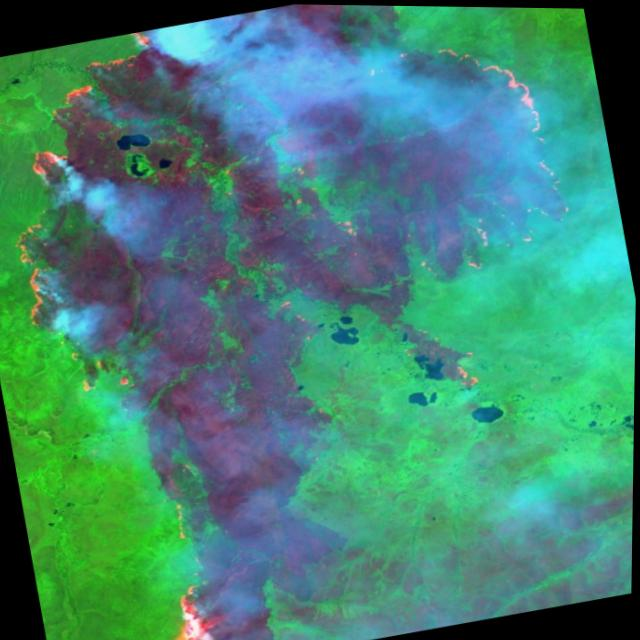fire: (357, 4, 603, 309), (0, 134, 128, 396), (31, 25, 180, 111), (158, 559, 294, 640), (397, 314, 492, 399)
